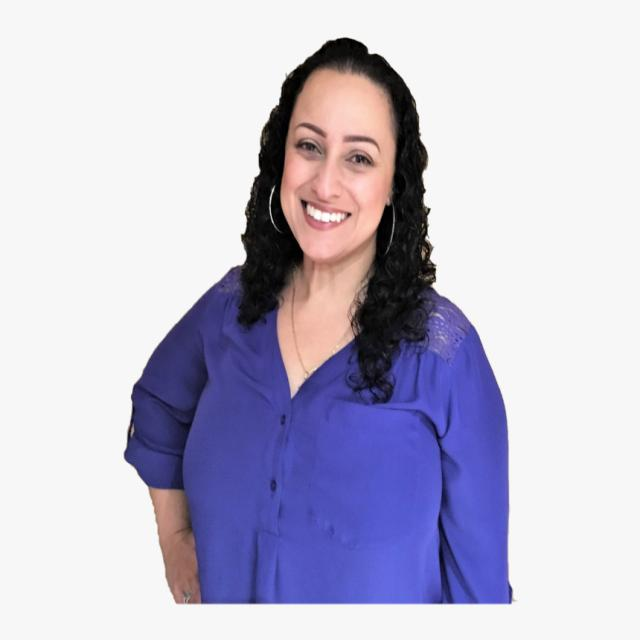nothing: (228, 23, 442, 182)
